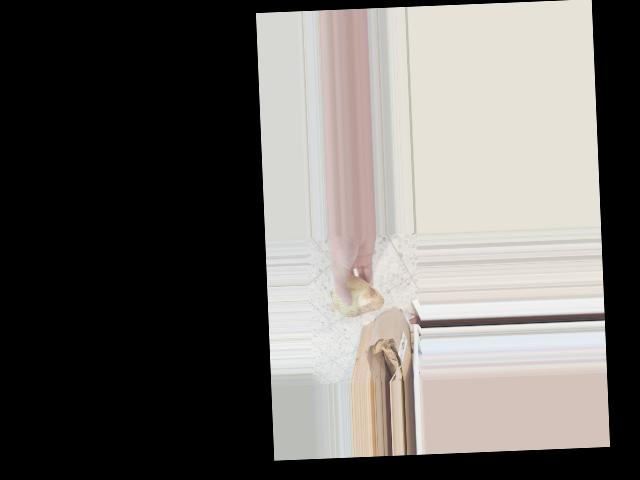onion: (327, 270, 382, 323)
